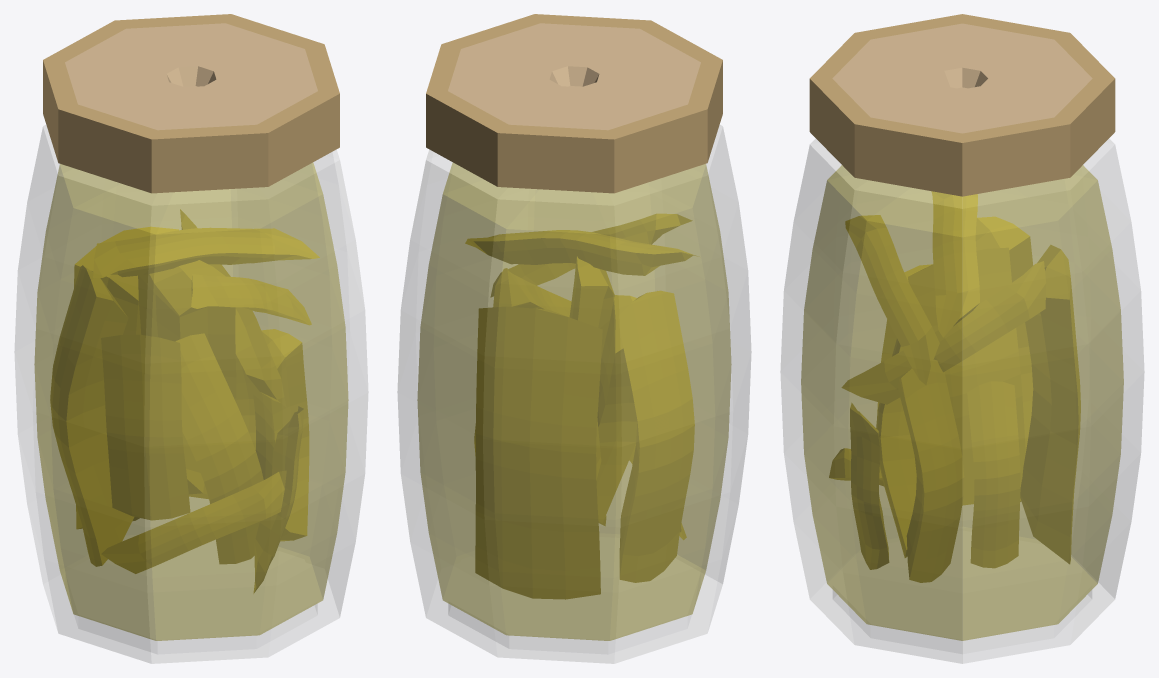
Rendered from Mango Jar.glb.
The picture shows the model from 3 angles, left to right: view 1: azimuth 30°, elevation 25°; view 2: azimuth 150°, elevation 25°; view 3: azimuth 270°, elevation 25°; orthographic projection.
Visible parts, largest first — view 1: Mango Jar; view 2: Mango Jar; view 3: Mango Jar.
Boxes of the visible parts, left/top/right/bottom form: Mango Jar: left=14, top=14, right=368, bottom=663; Mango Jar: left=397, top=14, right=751, bottom=663; Mango Jar: left=780, top=14, right=1144, bottom=663.
Bounding box in the file's own units: 0.9491 × 1.5 × 0.9491.
